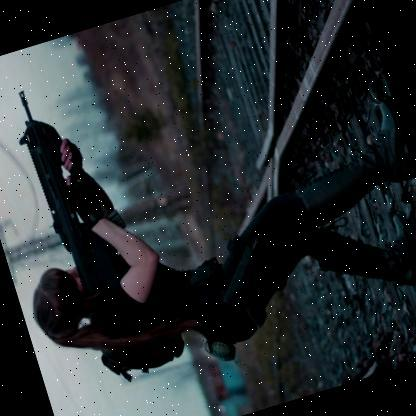rifle: (1, 69, 147, 318)
